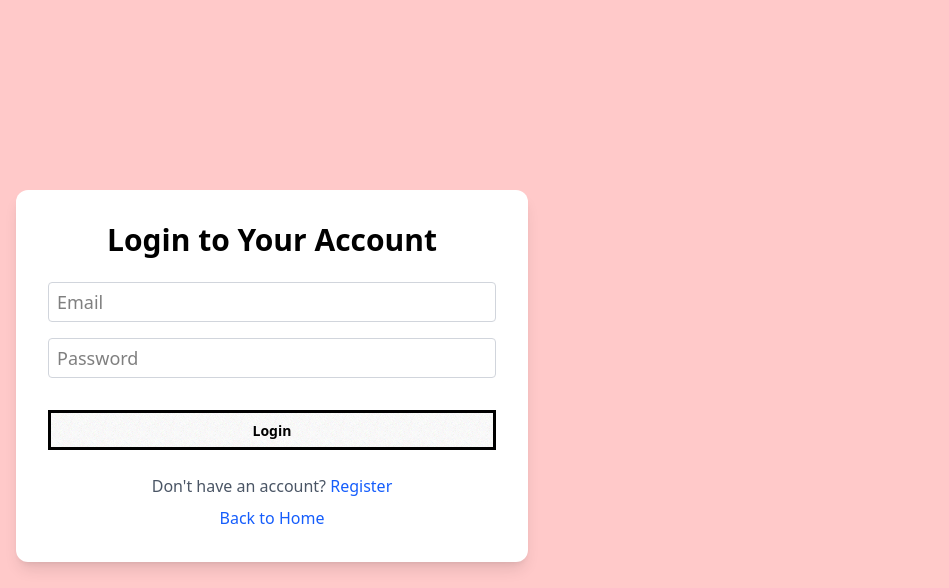
Login Page with API Intercepts › shows error for invalid credentials
Step 1. Type "wrong@example.com" into the field with test id "login-email" → (272, 302), box [48,282,496,322]
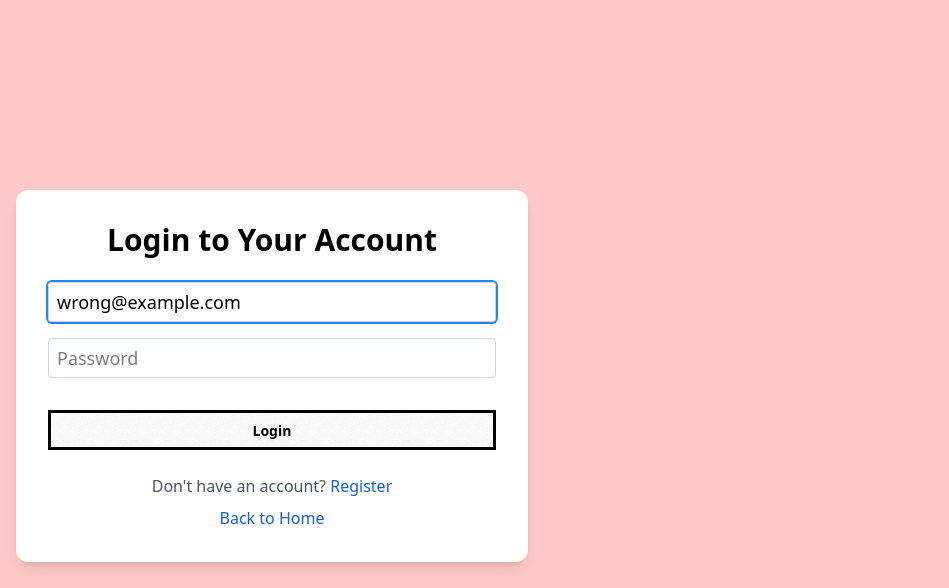
Step 2. Type "wrongpass" into the password field with test id "login-password" → (272, 358), box [48,338,496,378]
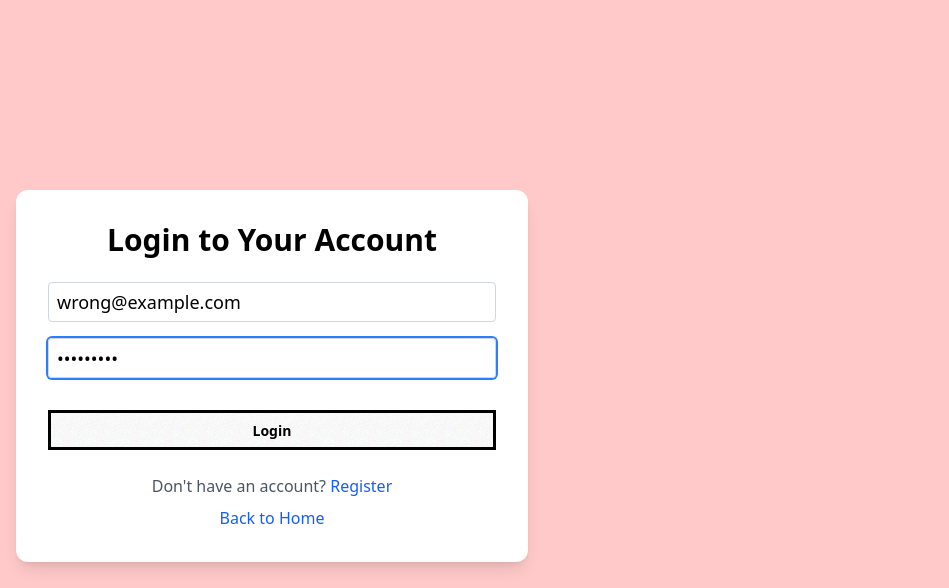
Step 3. Click the button with test id "login-submit-button" → (272, 430), box [48,410,496,450]
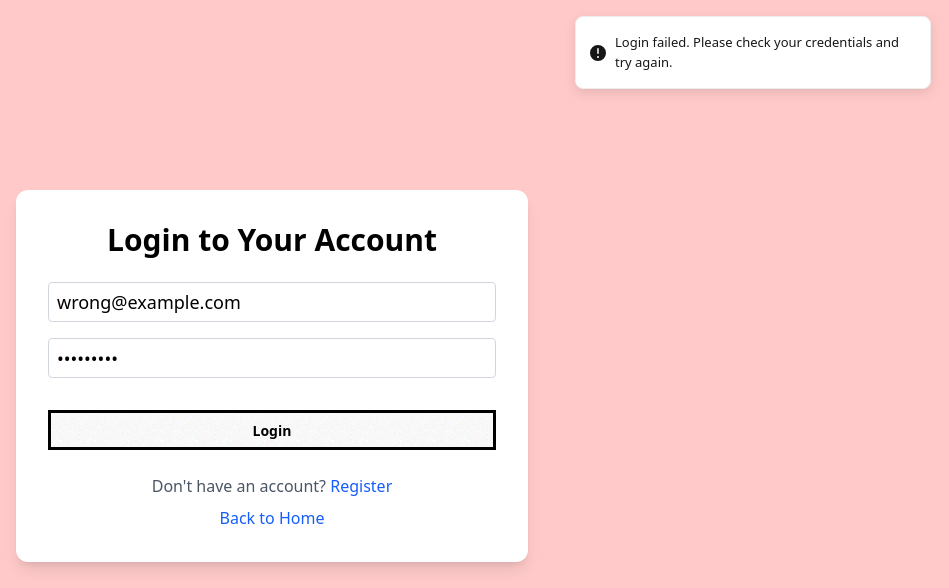
Result: the text "Login failed" is shown at [615,33,899,71]
